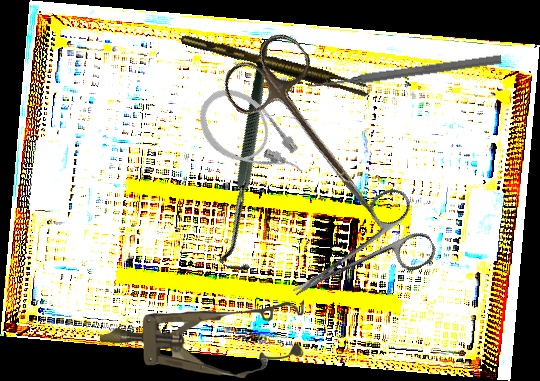Cannula: (185, 75, 317, 203)
Hook Surgical: (141, 40, 365, 279)
Iris Scissors: (214, 25, 416, 245), (272, 183, 441, 327)
Pusher: (307, 52, 502, 93)
Speculum: (100, 298, 304, 378)
Tissue Forceps: (180, 24, 371, 104)
